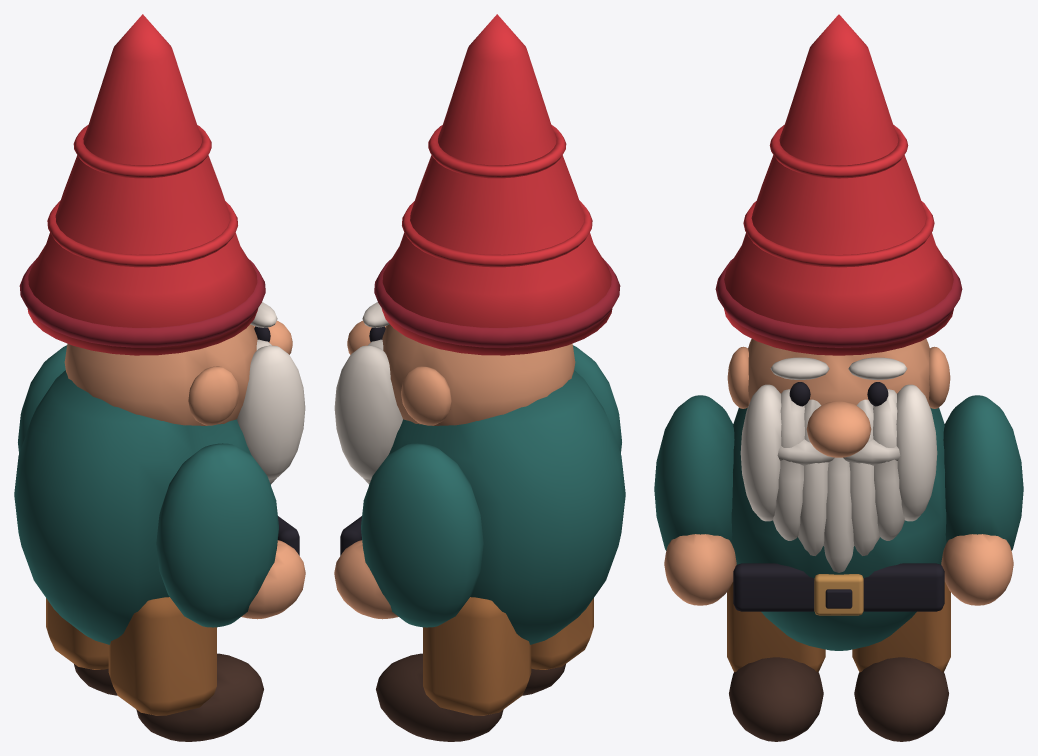
The picture shows the model from 3 angles, left to right: view 1: azimuth 30°, elevation 25°; view 2: azimuth 150°, elevation 25°; view 3: azimuth 270°, elevation 25°; orthographic projection.
Visible parts, largest first — view 1: root_pal_backpackTeal, root_pal_survivorRed, root_pal_skinWarm, root_pal_woodWarm, root_pal_picketWhite, root_pal_leather, root_pal_redDark, root_pal_uiDark; view 2: root_pal_backpackTeal, root_pal_survivorRed, root_pal_skinWarm, root_pal_woodWarm, root_pal_picketWhite, root_pal_leather, root_pal_redDark, root_pal_uiDark; view 3: root_pal_survivorRed, root_pal_backpackTeal, root_pal_picketWhite, root_pal_skinWarm, root_pal_leather, root_pal_uiDark, root_pal_woodWarm, root_pal_redDark, root_pal_brass.
Boxes of the visible parts, x1,y1,x2,y2 form: root_pal_backpackTeal: (14,345,278,644); root_pal_survivorRed: (27,14,258,355); root_pal_skinWarm: (64,320,305,619); root_pal_woodWarm: (46,597,216,715); root_pal_picketWhite: (237,302,305,484); root_pal_leather: (74,653,263,741); root_pal_redDark: (19,258,265,347); root_pal_uiDark: (254,326,299,555); root_pal_backpackTeal: (361,345,625,644); root_pal_survivorRed: (381,14,612,355); root_pal_skinWarm: (334,320,575,619); root_pal_woodWarm: (423,597,593,715); root_pal_picketWhite: (334,302,402,484); root_pal_leather: (376,653,565,741); root_pal_redDark: (374,258,620,347); root_pal_uiDark: (340,326,385,555); root_pal_survivorRed: (724,14,953,355); root_pal_backpackTeal: (654,395,1023,650); root_pal_picketWhite: (740,357,937,572); root_pal_skinWarm: (664,339,1013,605); root_pal_leather: (729,657,948,741); root_pal_uiDark: (733,382,944,611); root_pal_woodWarm: (727,582,950,672); root_pal_redDark: (715,258,962,347); root_pal_brass: (814,574,863,615).
Size of the model in its own units: 0.456 by 1.18 by 0.56.
